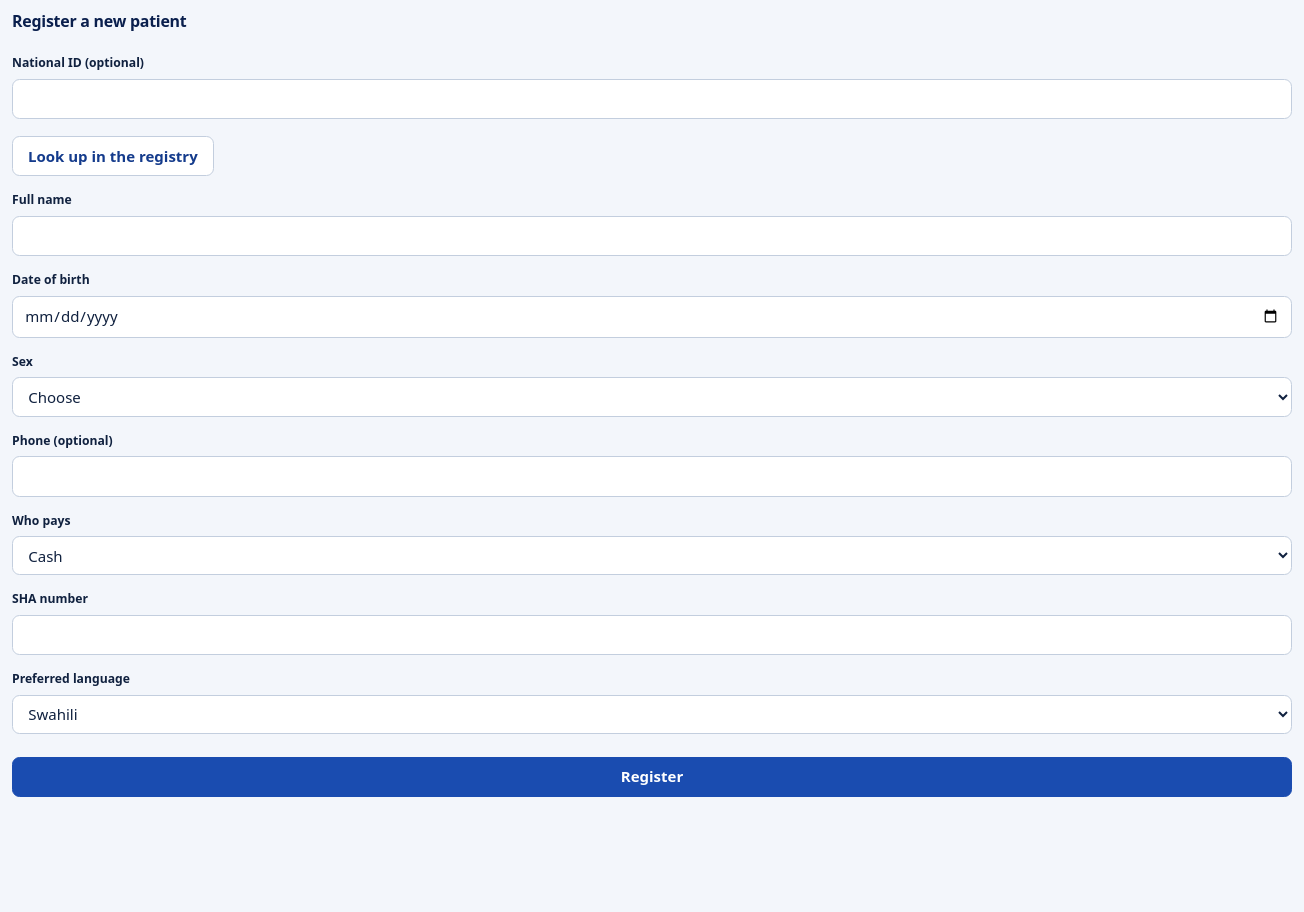
Test: Registry lookup on the registration form › fills name, date of birth and sex from a registry hit
In the field labelled "National ID (optional)": (652, 99) [12,79,1292,119], type "30000003"
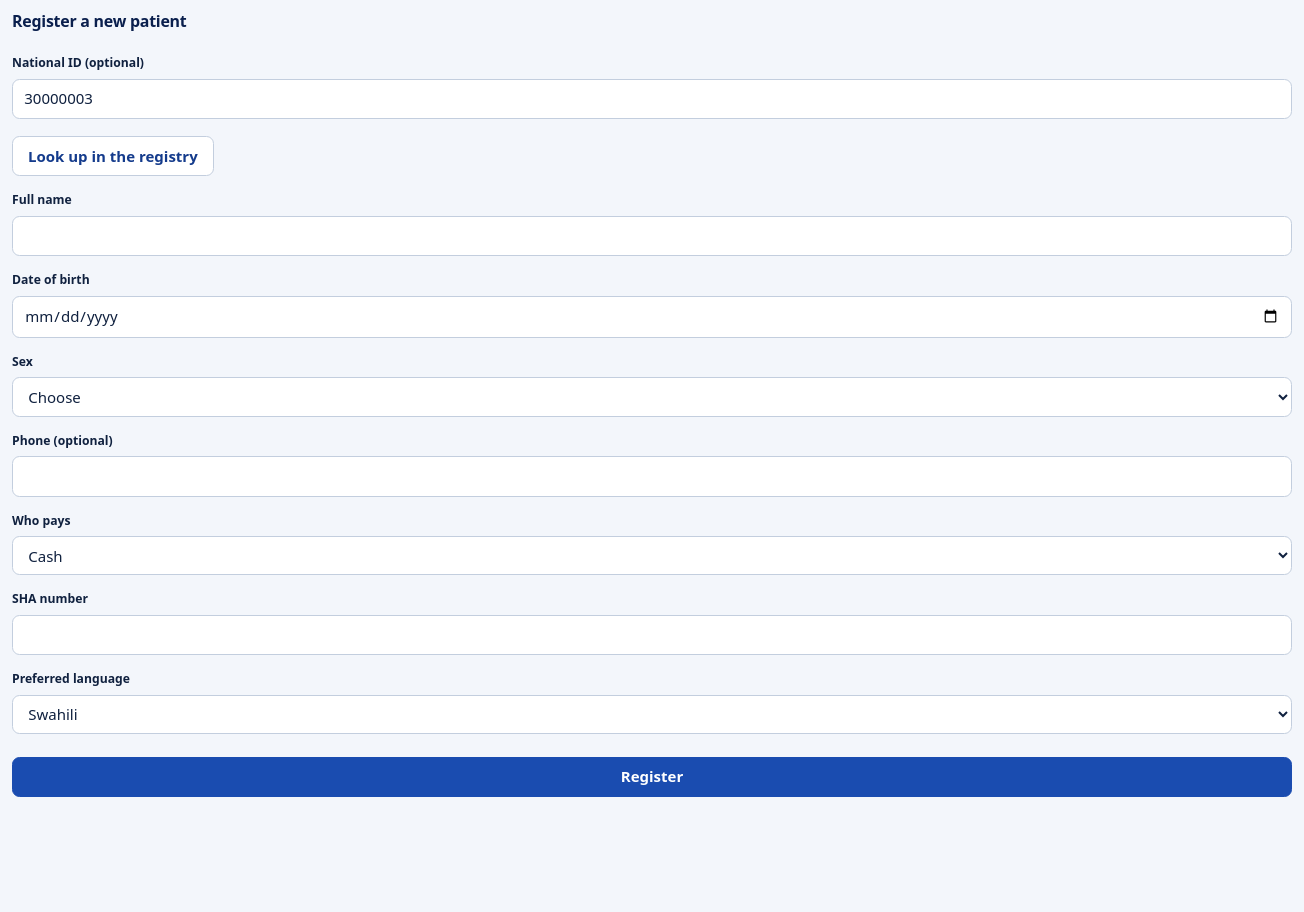
Click the button "Look up in the registry": click(113, 156) [12,136,214,176]
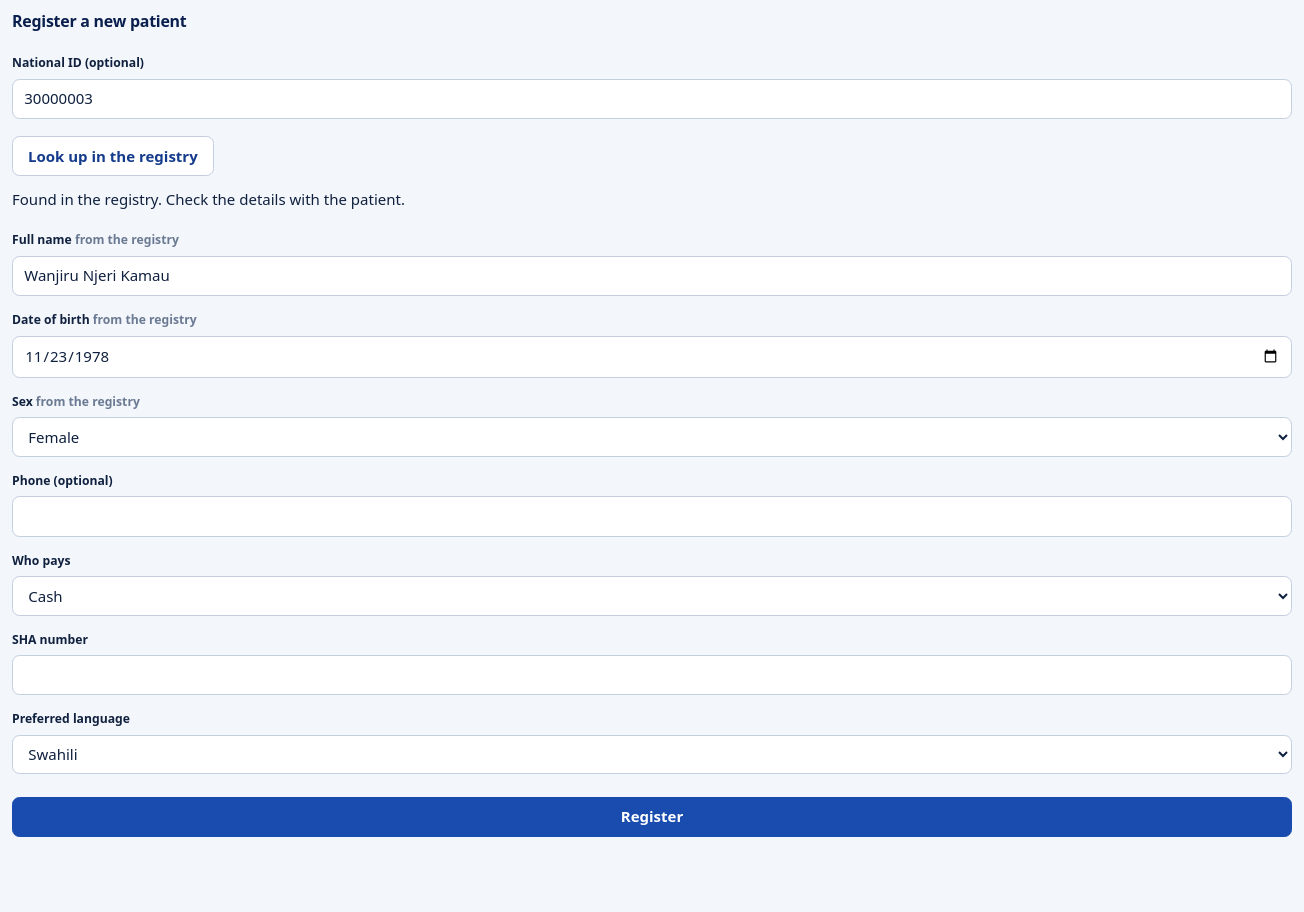
Result: the text "Found in the registry. Check the details with the patient." is shown at [12,189,405,209]
Result: the field labelled "Full name from the registry" holds "Wanjiru Njeri Kamau" at [12,256,1292,296]
Result: the date field labelled "Date of birth from the registry" holds "1978-11-23" at [12,336,1292,378]
